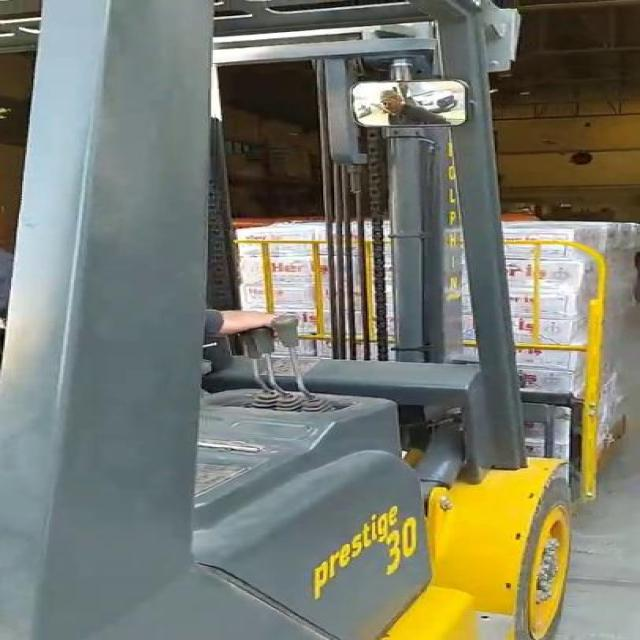box: (219, 207, 640, 475)
forklift: (16, 2, 566, 640)
